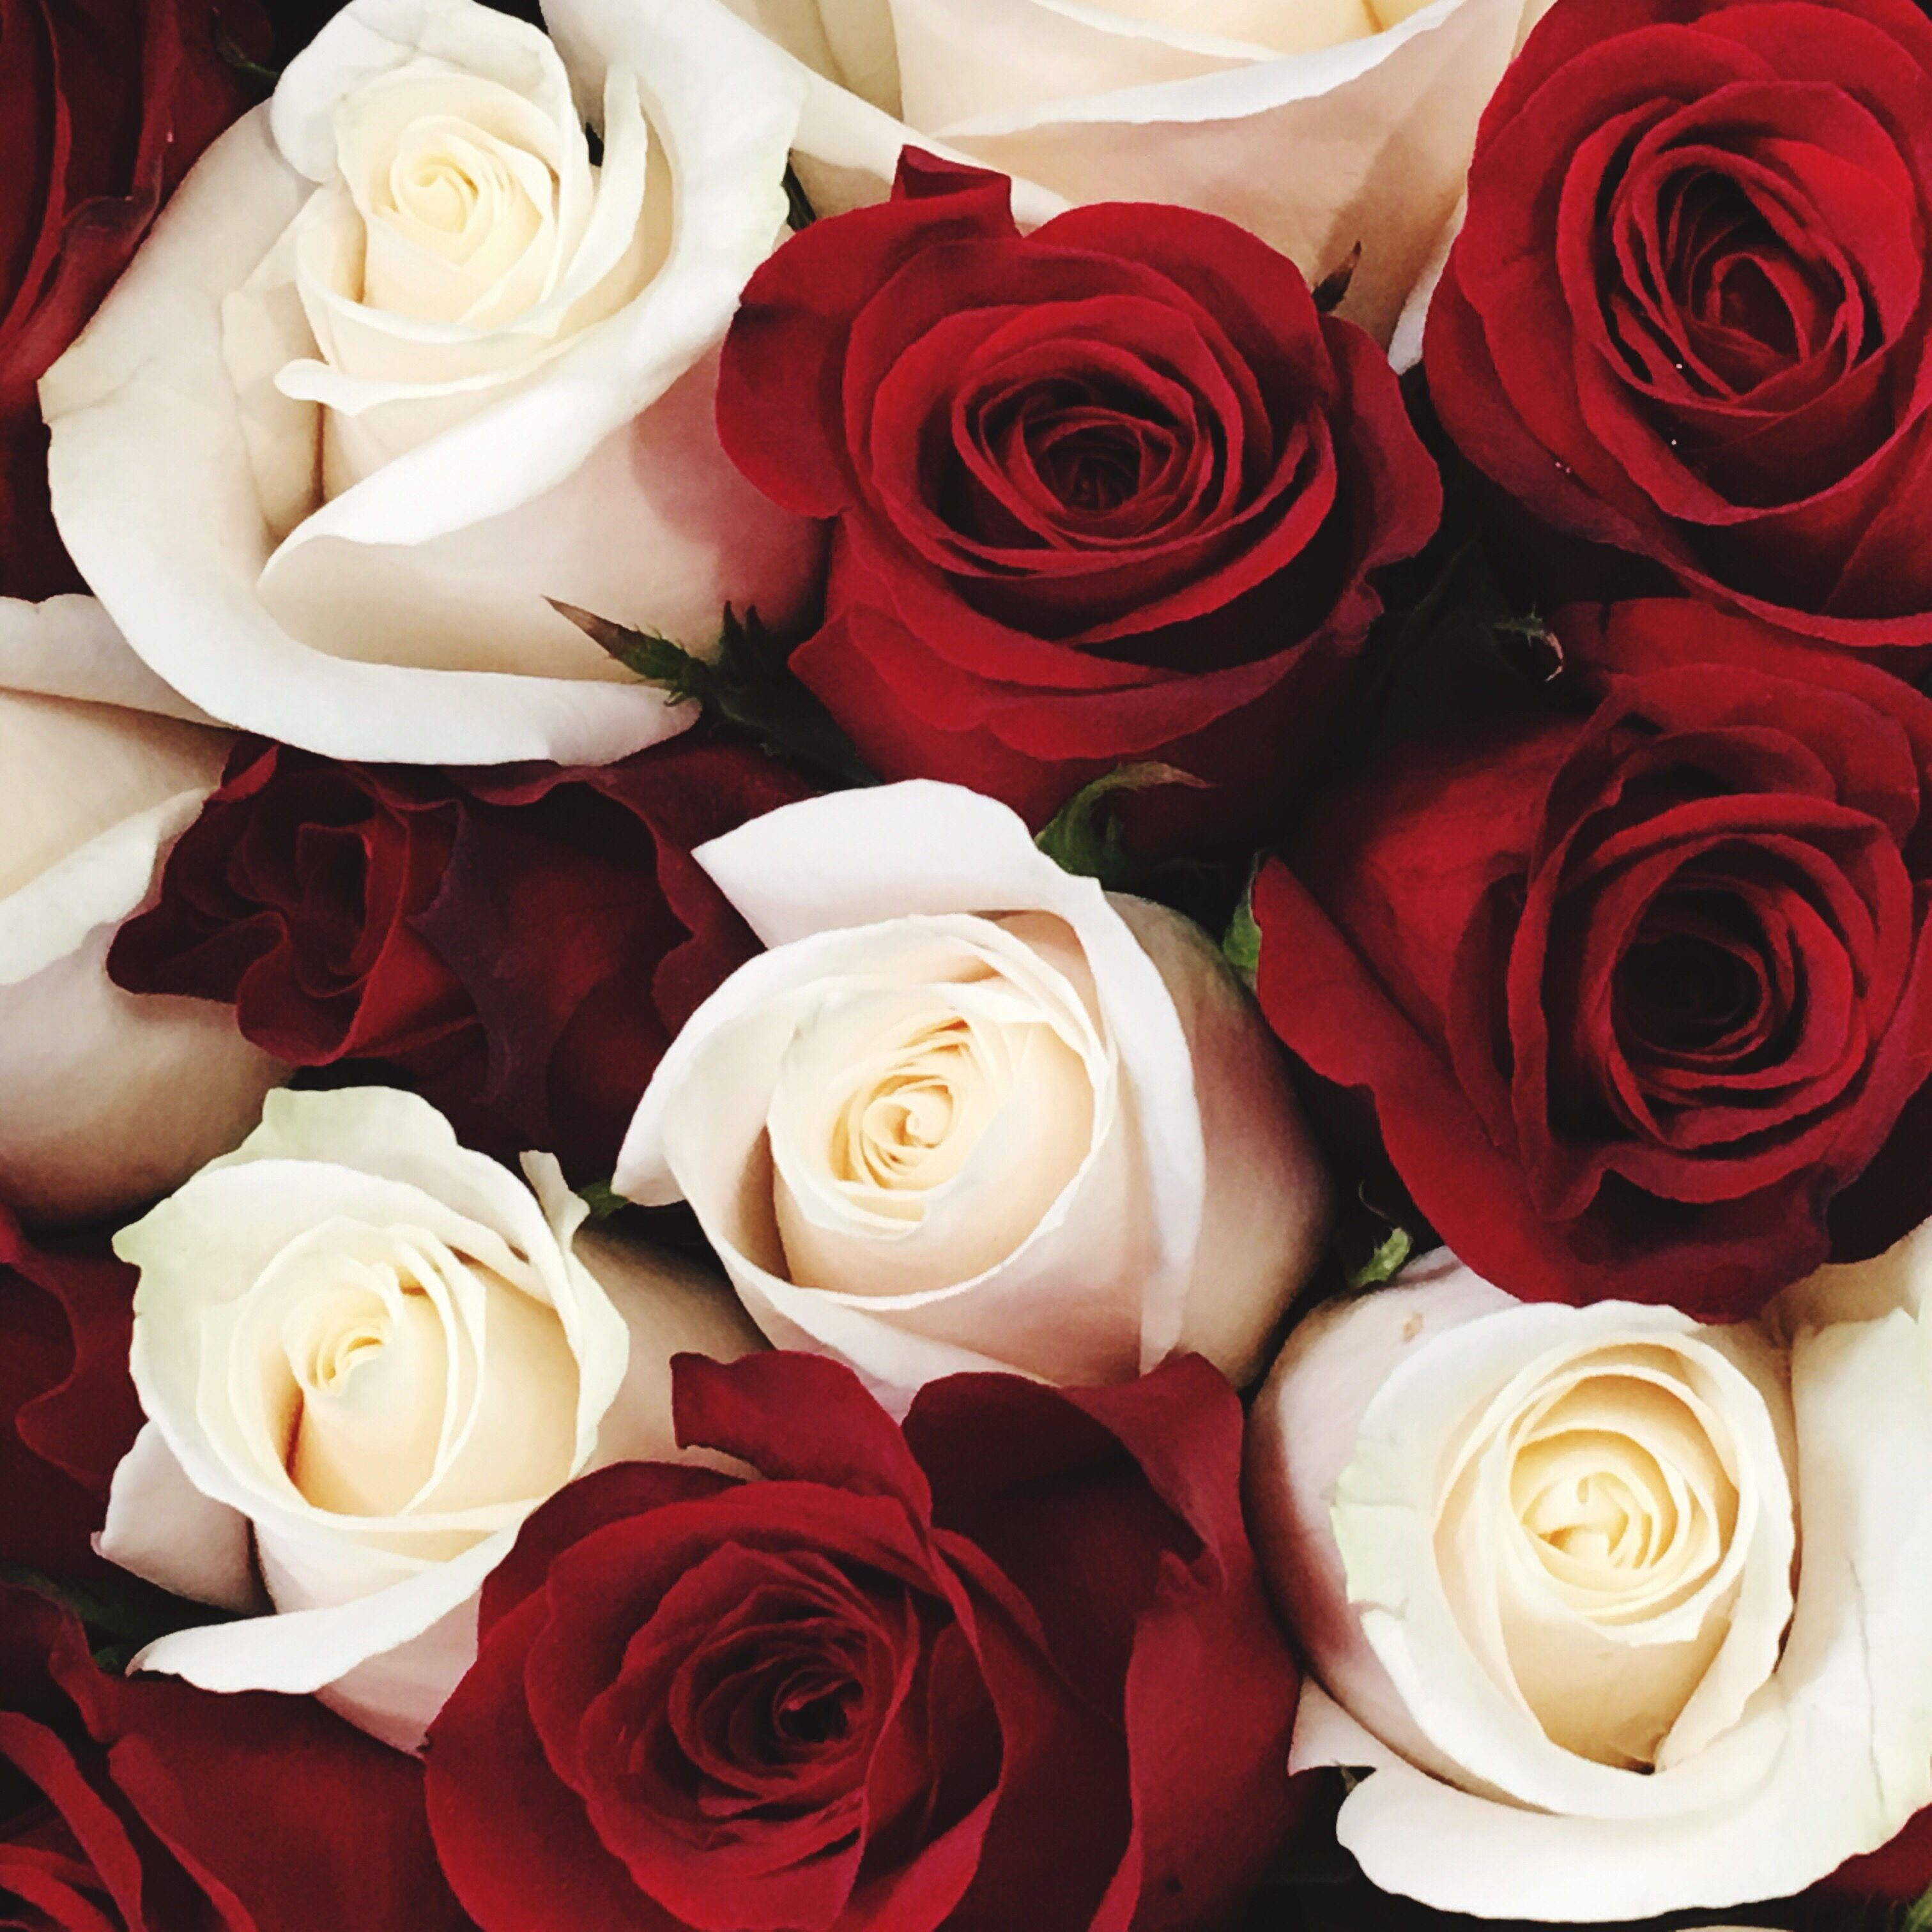rose: (423, 1357, 1306, 1932), (743, 180, 1428, 803), (1318, 732, 1932, 1316), (1440, 0, 1925, 637)
